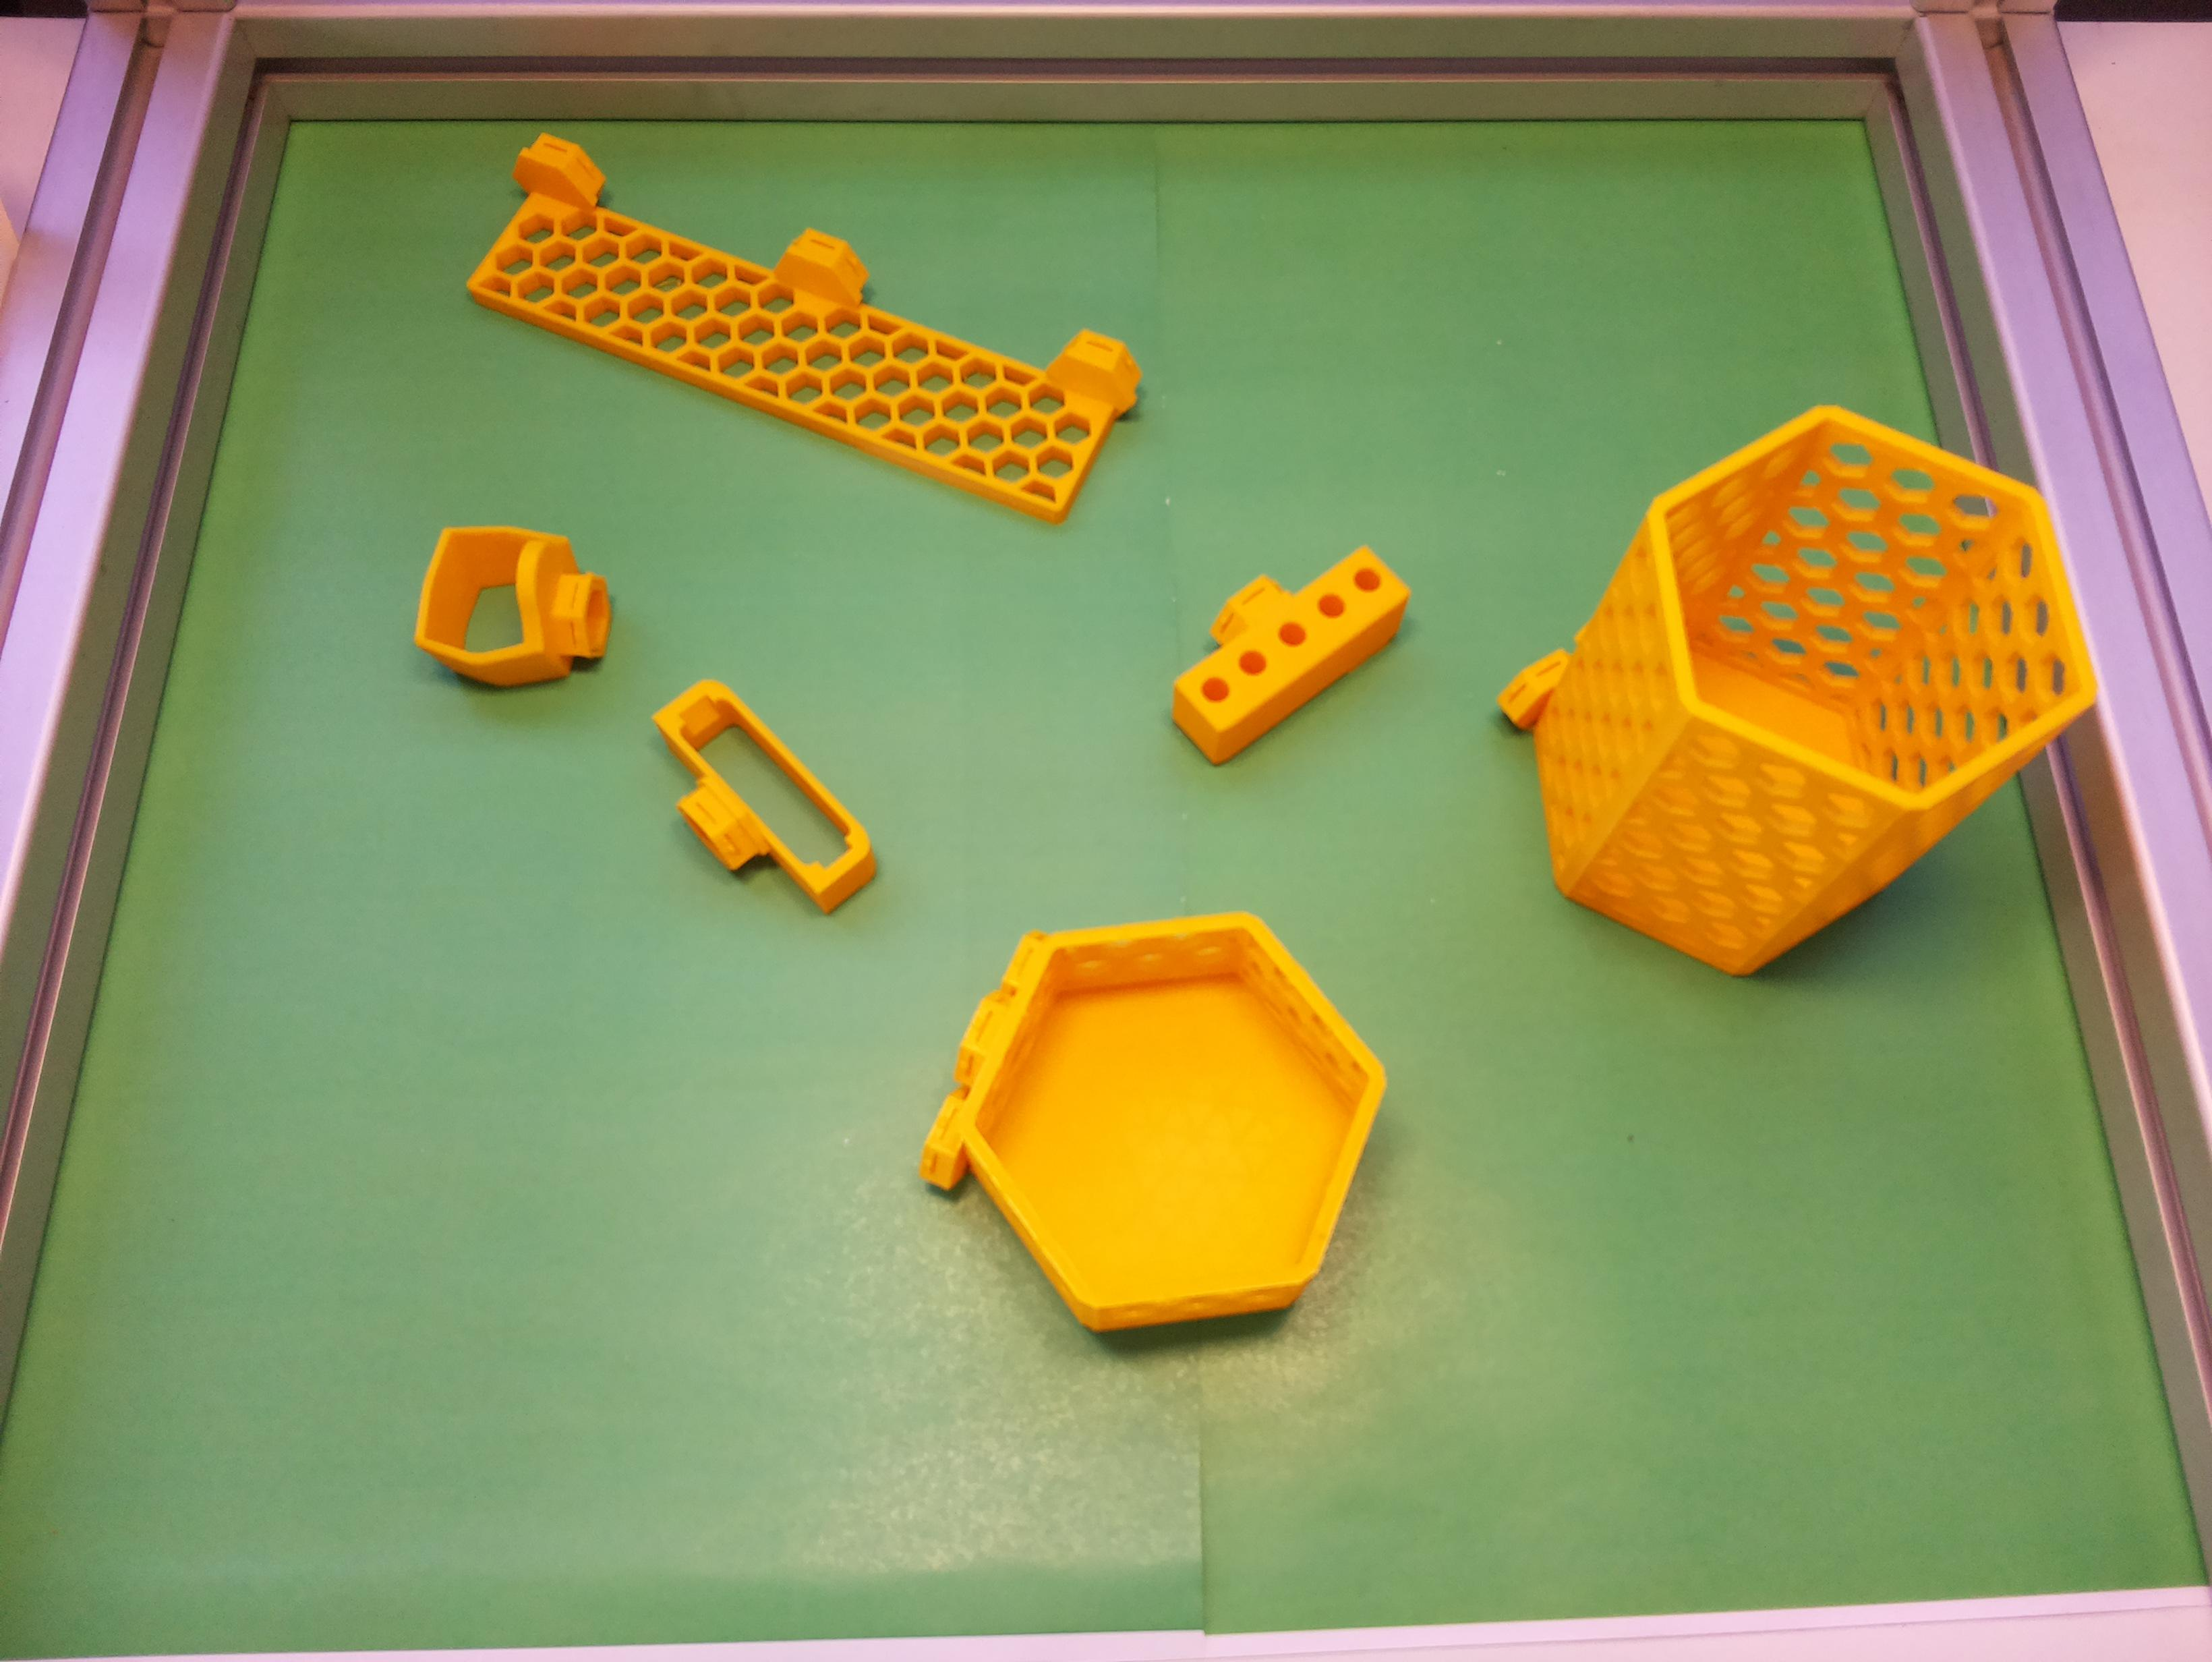bit_holder: (1135, 510, 1426, 772)
bottle_holder: (882, 834, 1428, 1397)
cup_holder: (1409, 309, 2168, 1046)
cutter_holder: (616, 665, 892, 946)
scissor_holder: (407, 512, 625, 705)
tool_holder: (463, 115, 1154, 536)
